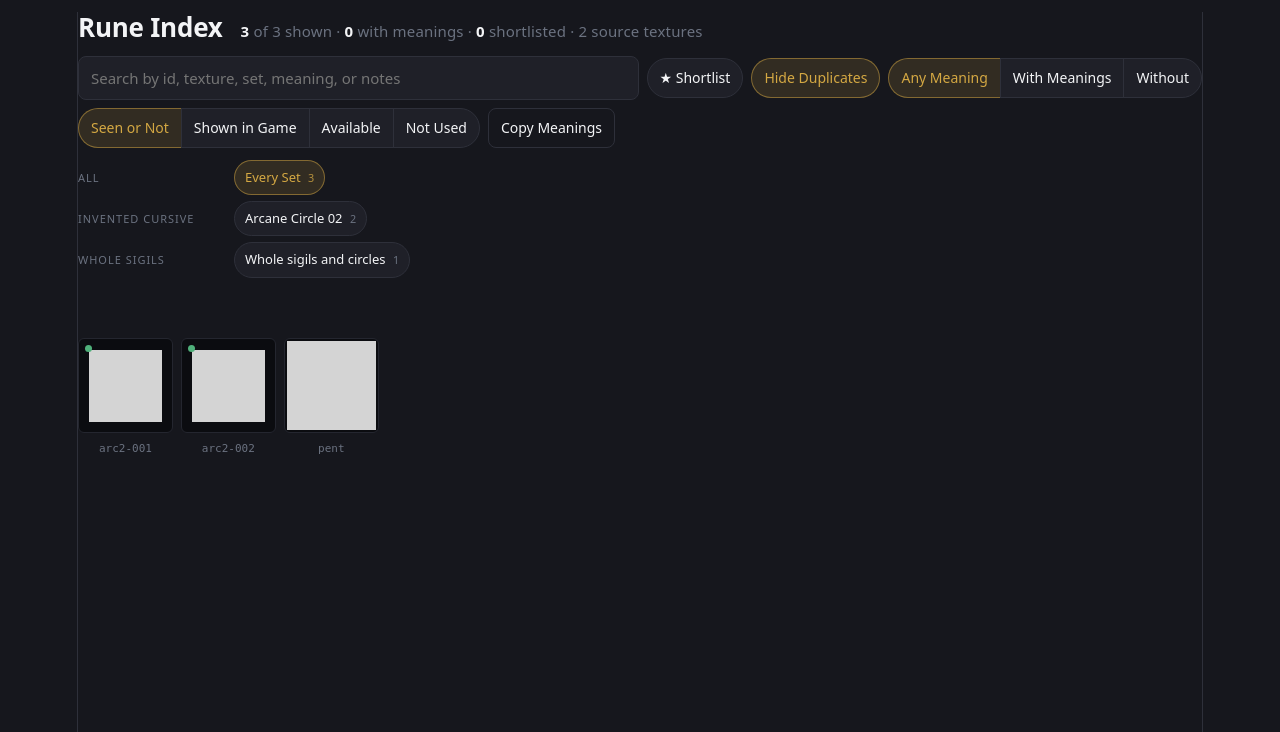
Test: RuneIndexPage › saves a meaning from what it started with, and shows it above the rune
Click the button with aria-label "Rune arc2-002" at (228, 391), box [181, 319, 276, 462]
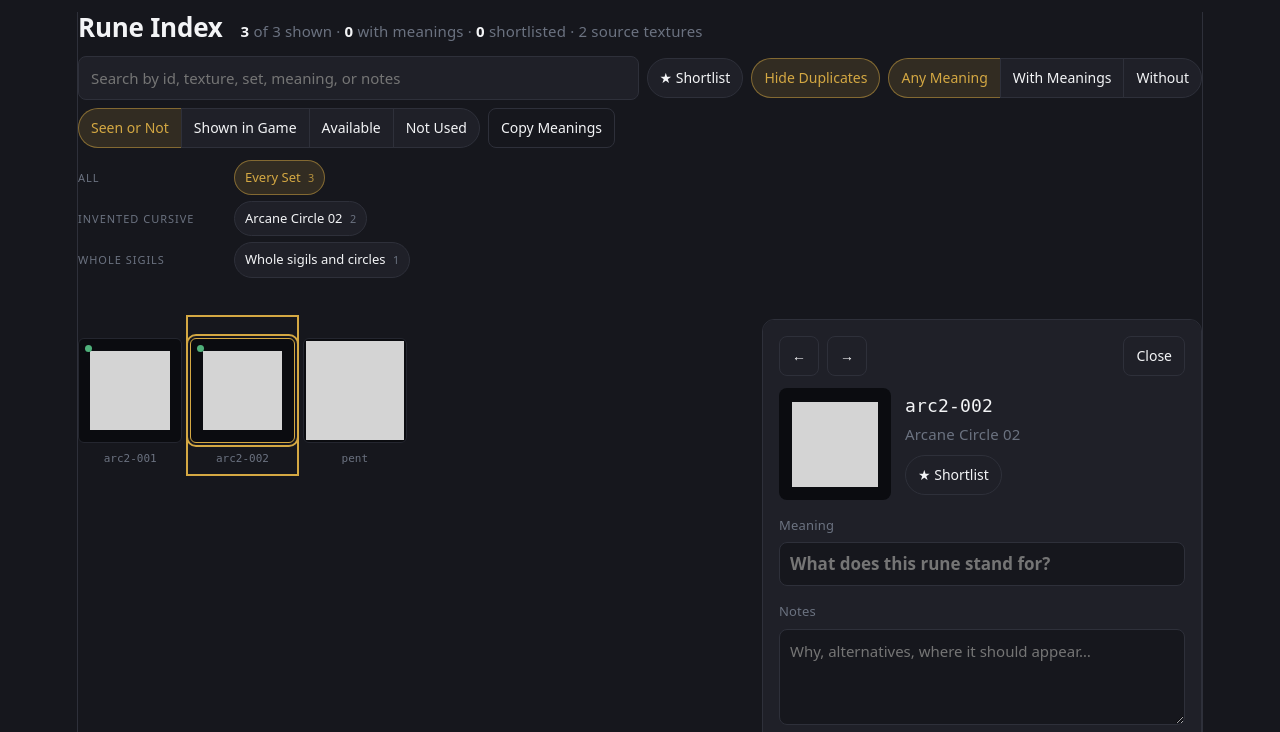
Type "Soul" into the field labelled "Meaning" at (982, 564), box [779, 542, 1185, 586]
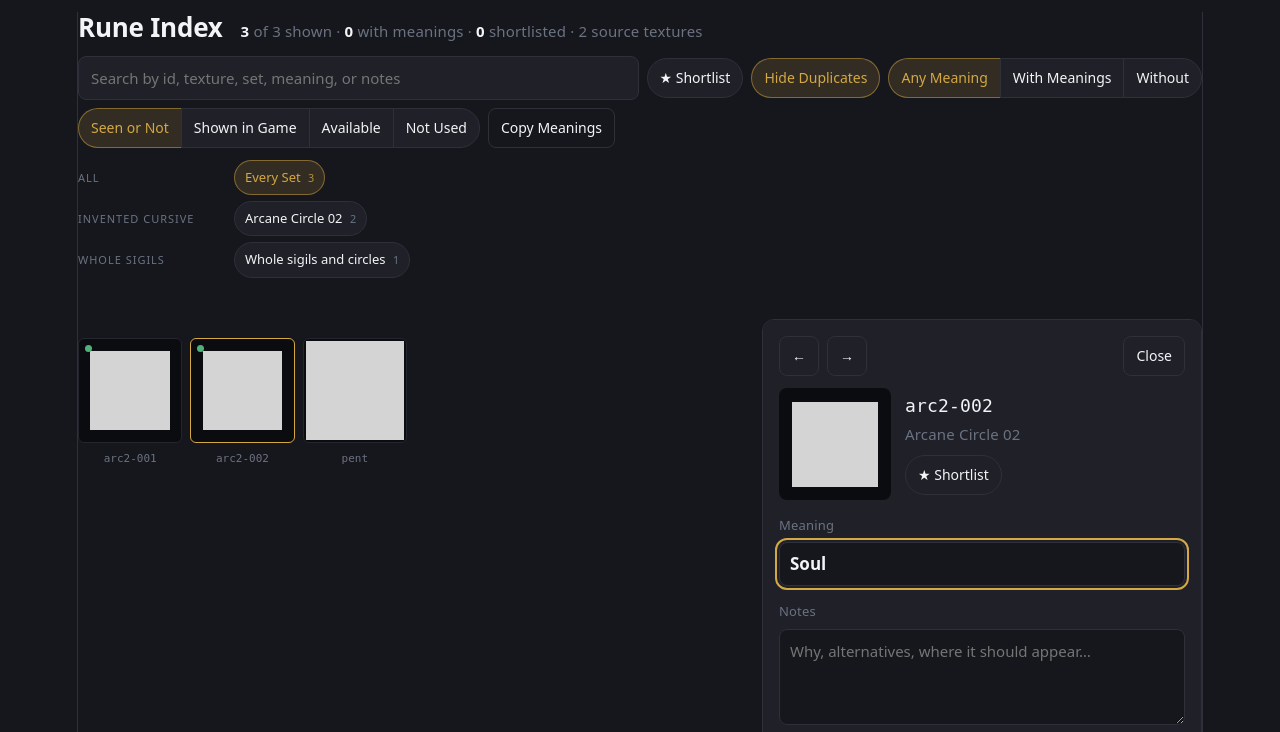
Press Tab
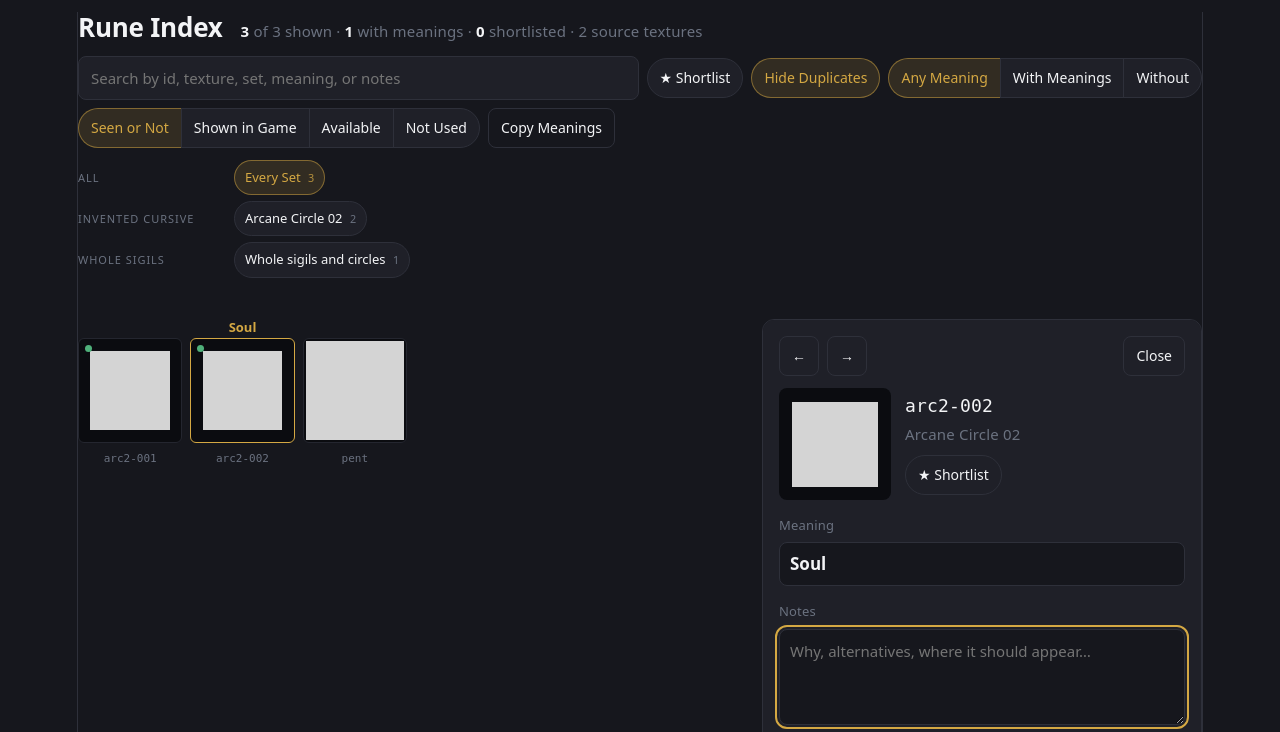
Now the text "Soul" is shown, box [229, 318, 256, 336]
